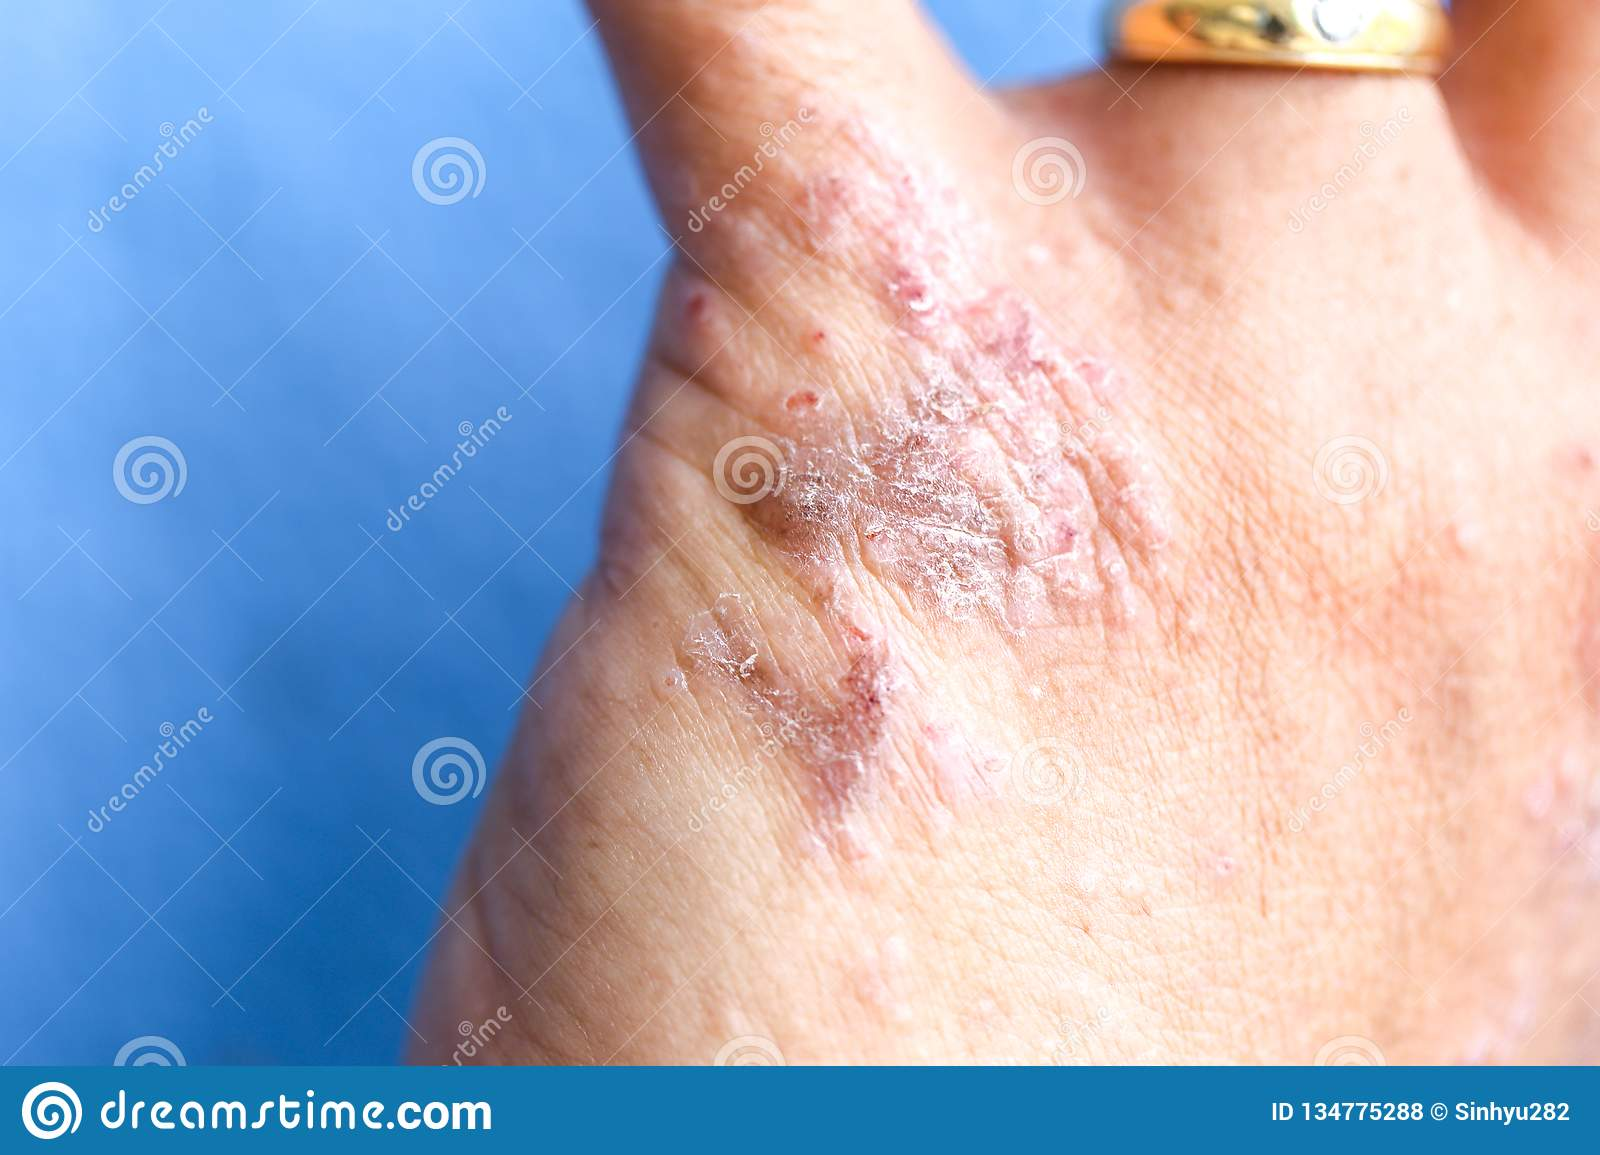Eczema: (703, 194, 1111, 811)
